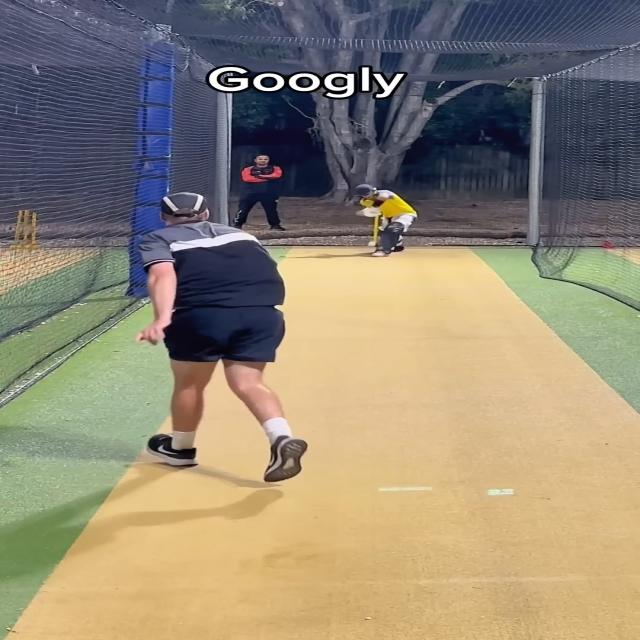Cricket ball: (368, 241, 377, 247)
